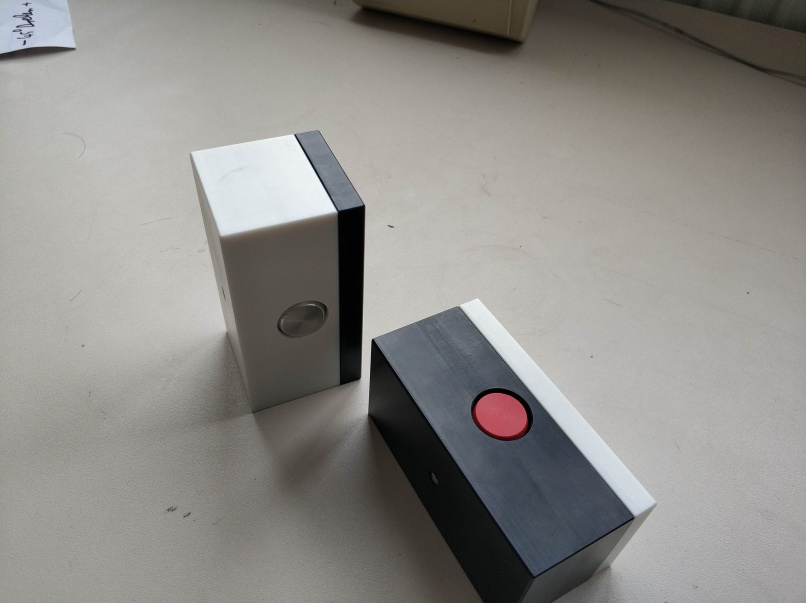black+white+silver: (187, 128, 367, 415)
white+black+red: (367, 295, 661, 603)
